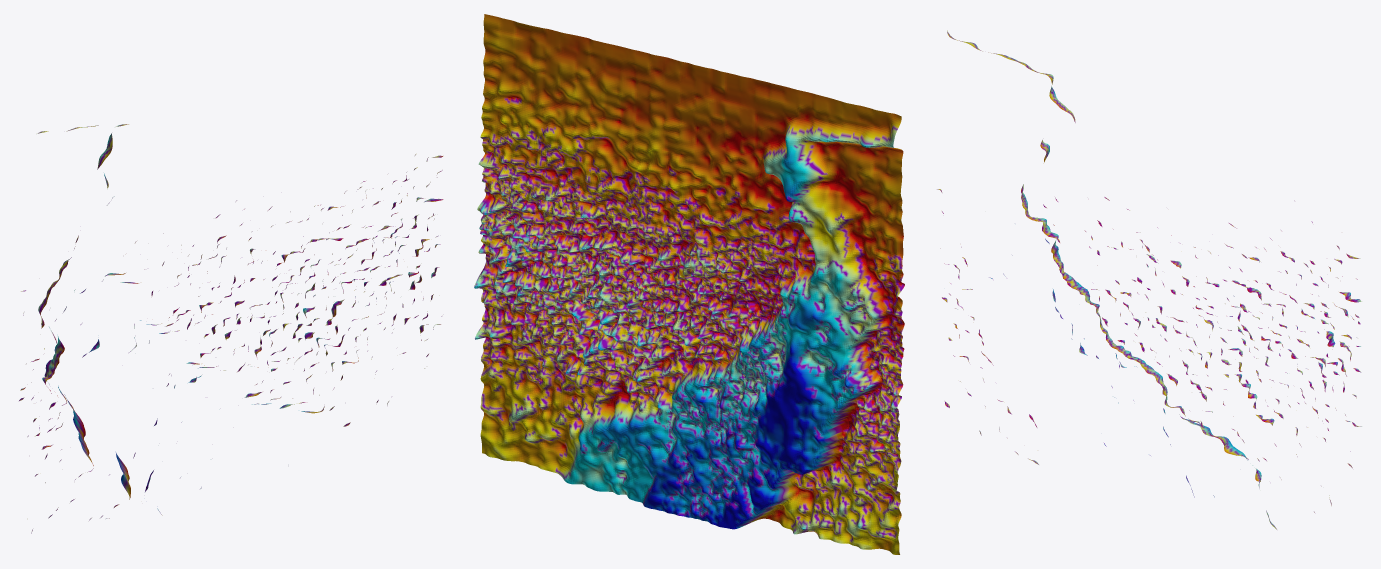
3 renders of one model, left to right at view 1: azimuth 30°, elevation 25°; view 2: azimuth 150°, elevation 25°; view 3: azimuth 330°, elevation 25°, orthographic.
Visible parts, largest first — view 1: world; view 2: world; view 3: world.
Boxes of the visible parts, box(x1,y1,x2,y2) form: world: box(19, 124, 443, 533); world: box(474, 14, 904, 554); world: box(937, 30, 1361, 529).
Size of the model in its own units: 299 by 299 by 29.
